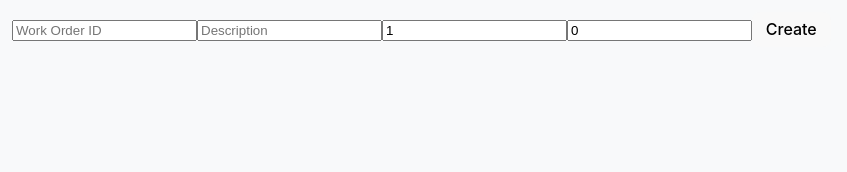
it: LineItemForm Component › Form Submission › resets form after successful submission
Type "WO-001" into the field labelled "Work Order ID". click: (104, 31)
box: [12,20,197,41]
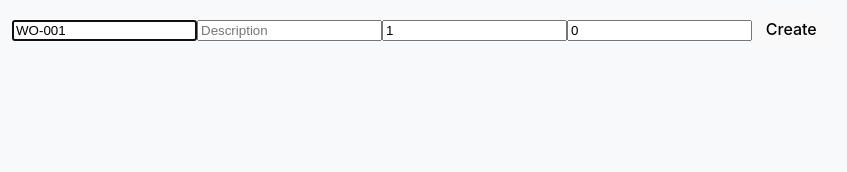
Type "Test Item" into the field named "line item description". click: (290, 31)
box: [197,20,382,41]
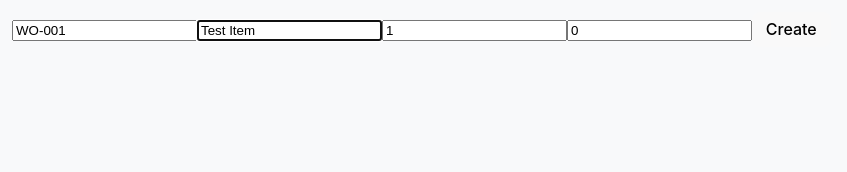
Replace the text in the number field named "quantity" with "3". click: (474, 31)
box: [382,20,567,41]
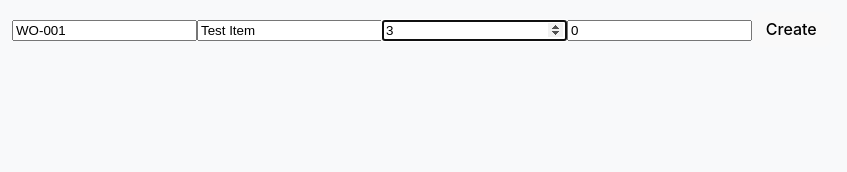
Replace the text in the number field named "unit price" with "15.75". click: (660, 31)
box: [567,20,752,41]
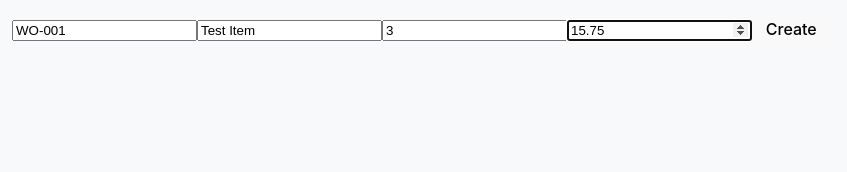
Click the button "Create". click: click(791, 29)
box: [752,12,830,47]
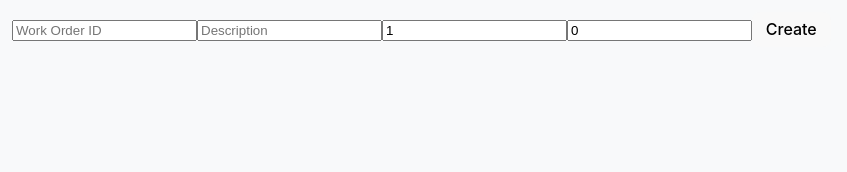
Check: the field labelled "Work Order ID" is empty, box [12,20,197,41]
Check: the field named "line item description" is empty, box [197,20,382,41]
Check: the number field named "quantity" holds "1", box [382,20,567,41]
